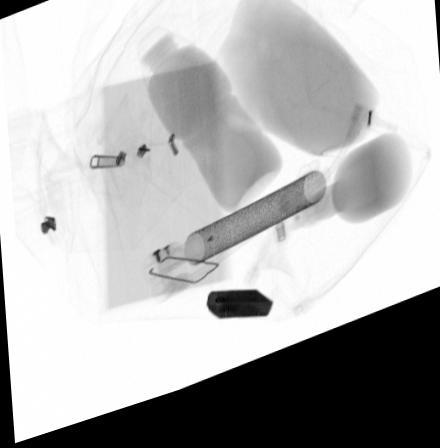Lighter: (204, 304, 272, 334)
